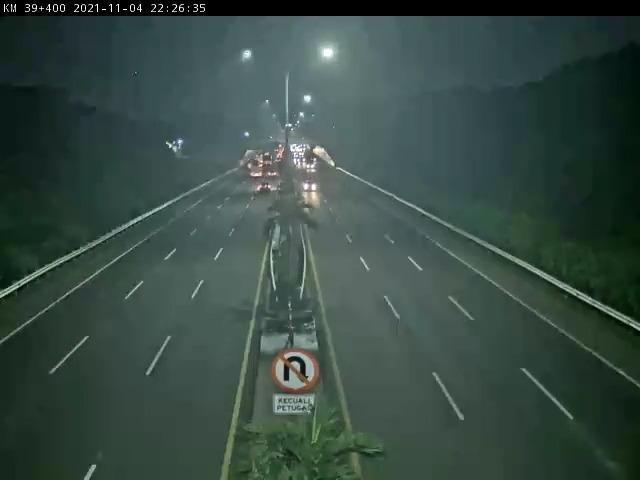car: (258, 181, 276, 197), (302, 177, 321, 191)
